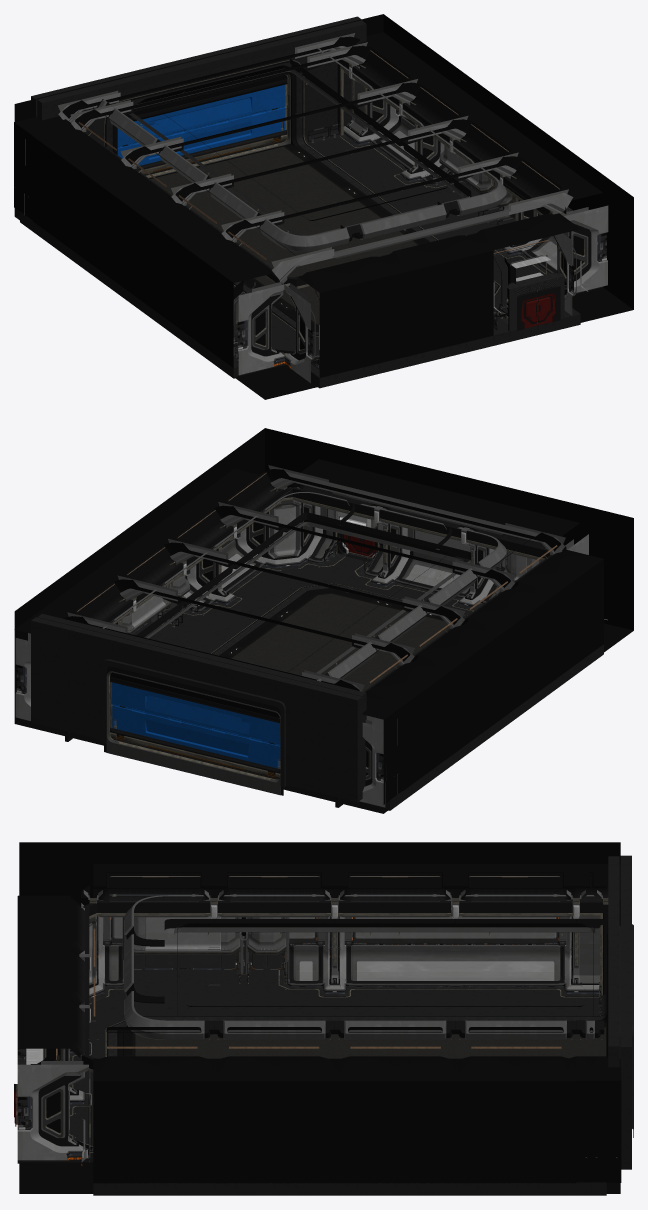
Rendered from ht-garage-lrg.glb.
3 views of the same model, one above another, from view 1: azimuth 30°, elevation 25°; view 2: azimuth 150°, elevation 25°; view 3: azimuth 270°, elevation 25° (orthographic). The views are drawn at different scales.
Parts seen in each view (by area): view 1: object 1, object 7, tor_oben_2, tor_unten_2, object 2, tor_oben_1, tor_unten_1, object 10, object 4; view 2: object 1, object 7, tor_unten_2, tor_oben_2, object 4, object 2, tor_unten_1, tor_oben_1; view 3: object 1, object 7, object 2.
Part boxes in pixels (left/top/right/bottom): object 1: left=14, top=14, right=633, bottom=399; object 7: left=62, top=36, right=566, bottom=335; tor_oben_2: left=117, top=84, right=287, bottom=147; tor_unten_2: left=117, top=107, right=286, bottom=166; object 2: left=140, top=101, right=587, bottom=360; tor_oben_1: left=125, top=75, right=287, bottom=121; tor_unten_1: left=136, top=130, right=288, bottom=175; object 10: left=521, top=293, right=555, bottom=328; object 4: left=135, top=74, right=513, bottom=321; object 1: left=14, top=428, right=633, bottom=813; object 7: left=63, top=469, right=566, bottom=691; tor_unten_2: left=110, top=705, right=280, bottom=768; tor_oben_2: left=110, top=682, right=280, bottom=745; object 4: left=106, top=544, right=372, bottom=795; object 2: left=121, top=499, right=541, bottom=778; tor_unten_1: left=109, top=727, right=280, bottom=779; tor_oben_1: left=110, top=672, right=279, bottom=723; object 1: left=14, top=842, right=633, bottom=1195; object 7: left=81, top=872, right=608, bottom=1058; object 2: left=42, top=917, right=577, bottom=1151.
Size of the model in its own units: 34 by 10.55 by 41.07.
31 materials, 26 textured.
